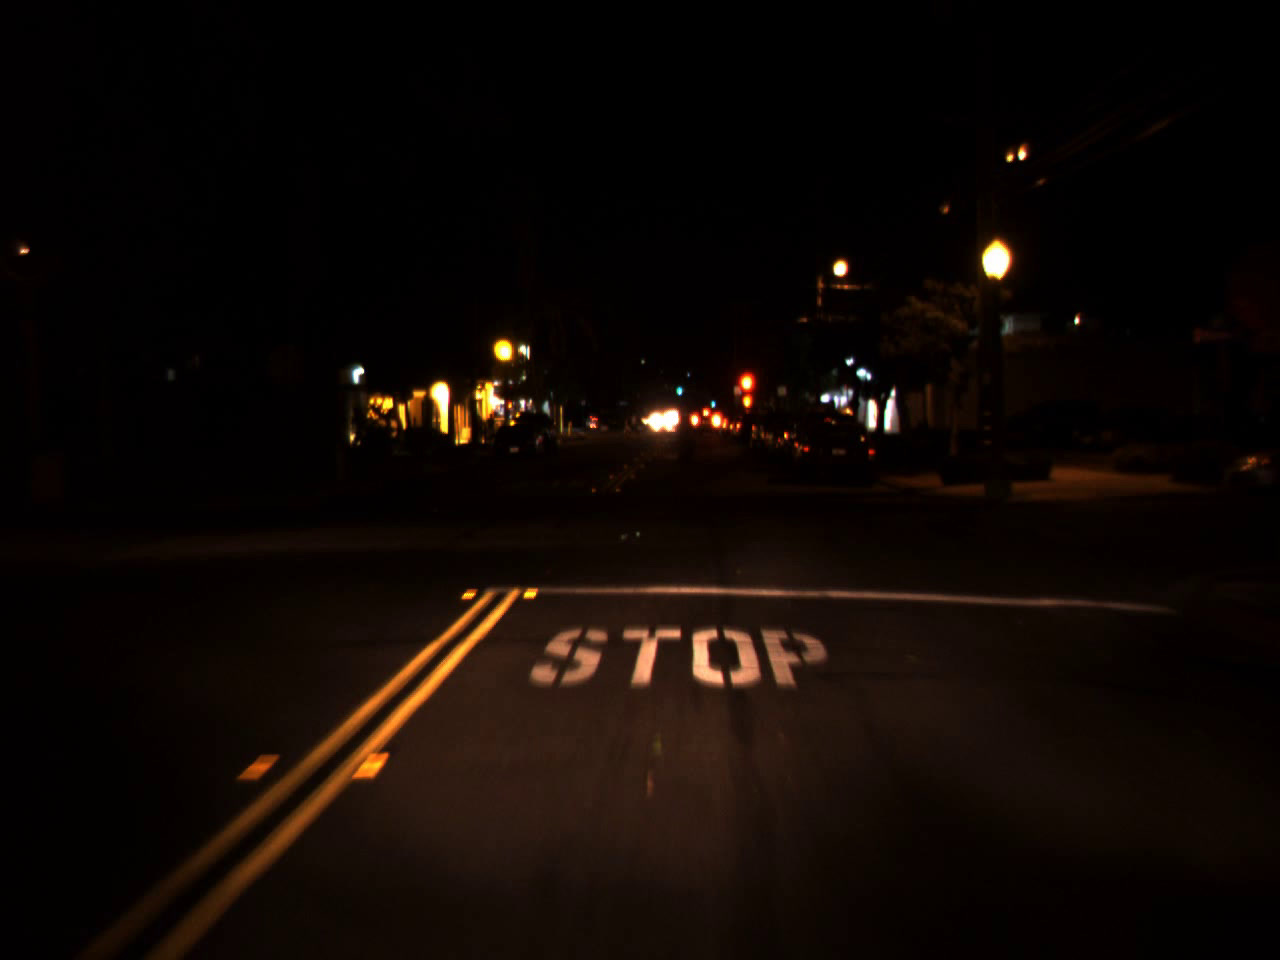go: (674, 379, 684, 397), (709, 392, 716, 410)
stop: (734, 369, 758, 417)
